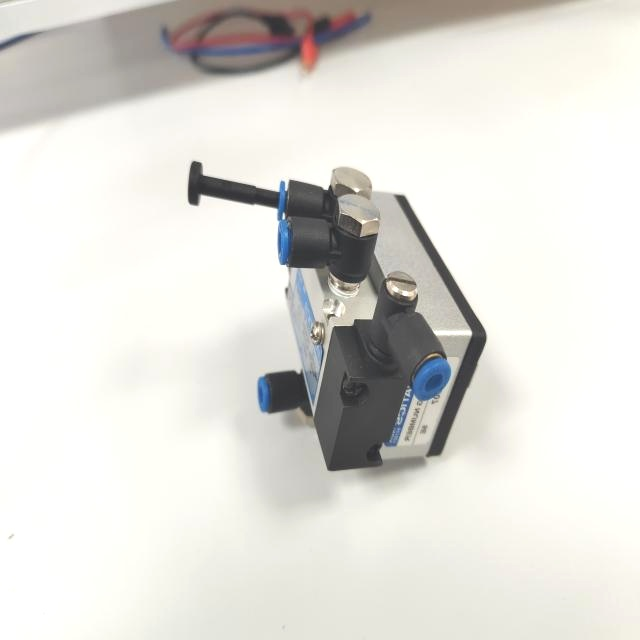5by2 DCV: (176, 153, 492, 484)
